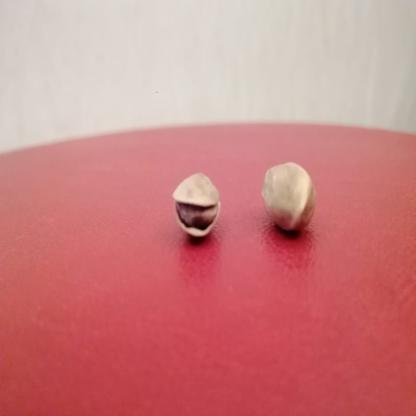pistachio: (261, 159, 320, 246), (172, 167, 222, 242)
